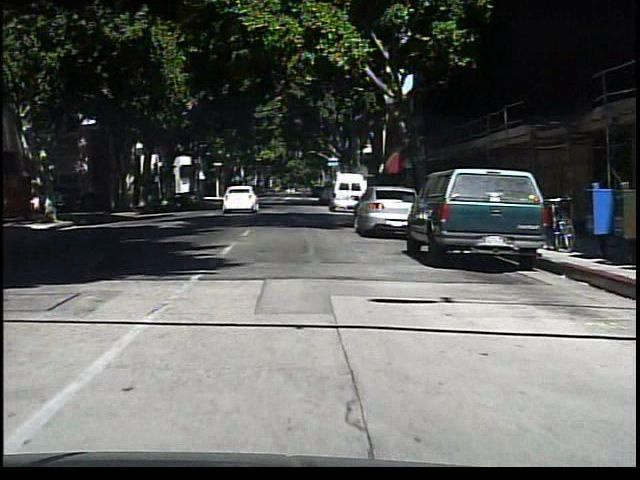person: (46, 178, 63, 222), (294, 178, 313, 206)
